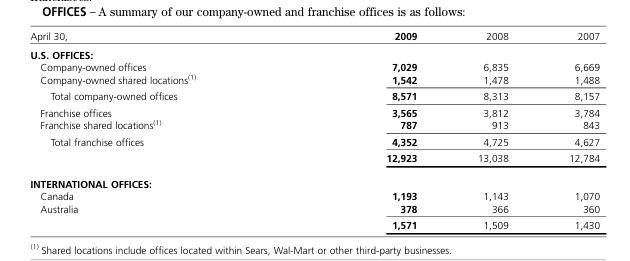table: (29, 29, 599, 230)
table column: (29, 29, 290, 230), (290, 29, 446, 230), (446, 29, 538, 230), (538, 29, 599, 230)
table column header: (29, 29, 599, 44)
table projected row header: (29, 170, 599, 189), (29, 44, 599, 60)
table row: (29, 149, 599, 170), (29, 170, 599, 189), (29, 87, 599, 104), (29, 44, 599, 60), (29, 117, 599, 133), (29, 133, 599, 149), (29, 29, 599, 44), (29, 72, 599, 87), (29, 201, 599, 216), (29, 216, 599, 230), (29, 104, 599, 117), (29, 60, 599, 72), (29, 189, 599, 201)
